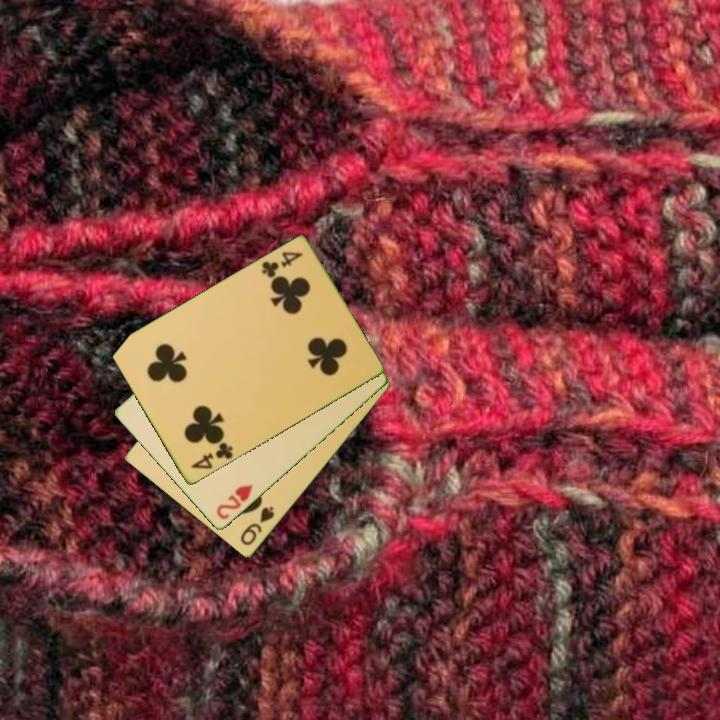2h: (213, 481, 256, 523)
4c: (187, 437, 236, 472), (258, 248, 305, 281)
9s: (237, 503, 278, 549)
